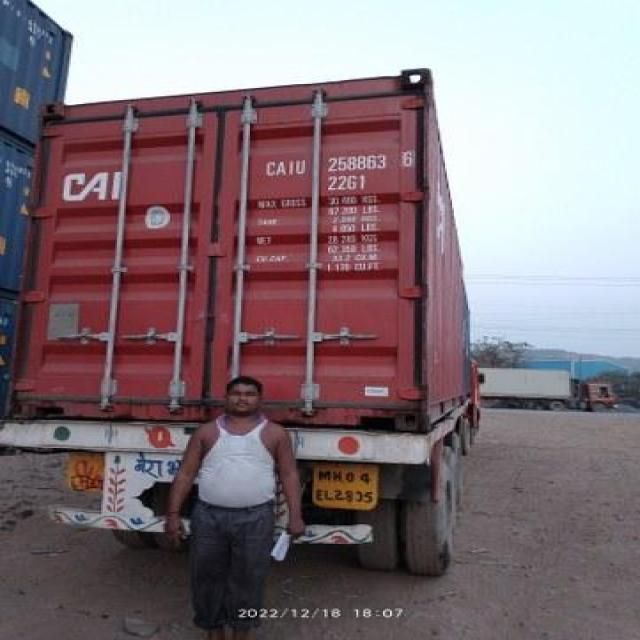ISO: (320, 175, 370, 193)
container_number: (268, 152, 417, 174)
